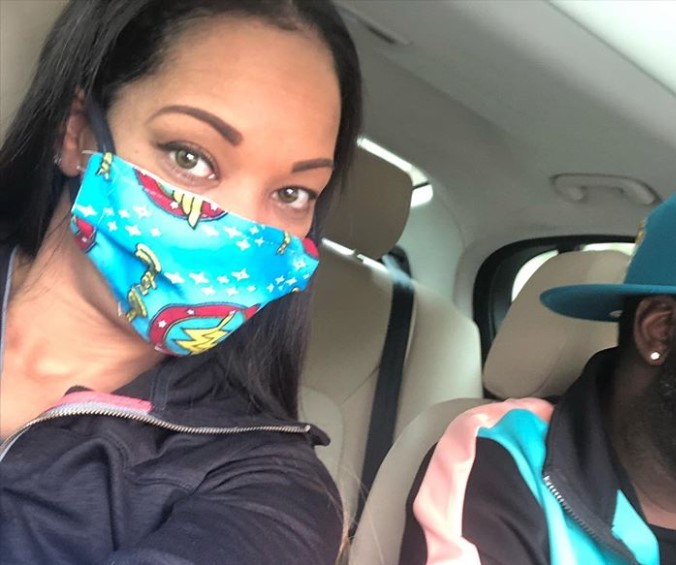face_with_mask: (47, 3, 356, 365)
